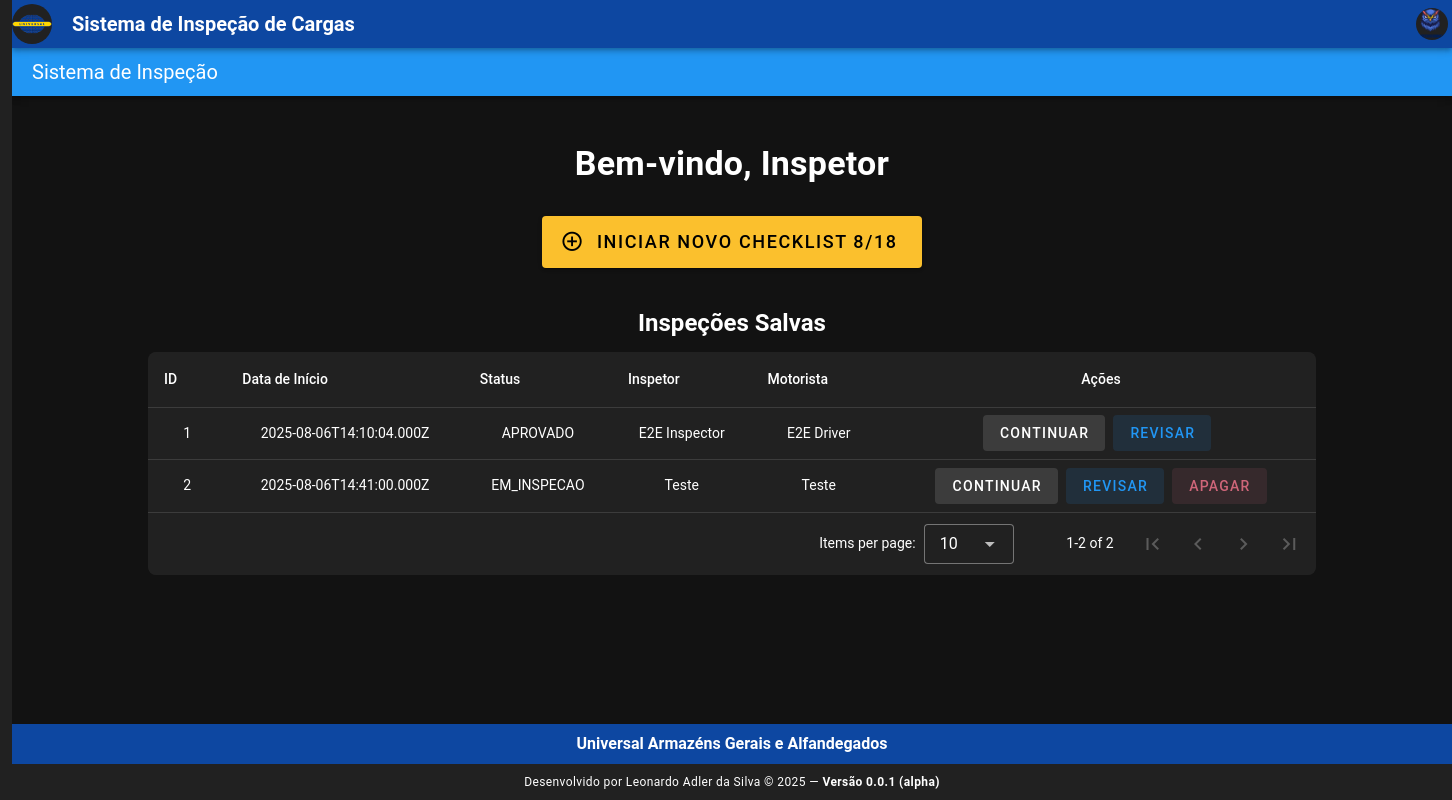
Test case: Tela 1: Página Inicial › Visualização em Desktop › deve apagar uma inspeção ao clicar em "Apagar" e confirmar
Click the button "Apagar": (1220, 486) [1172,468,1267,504]
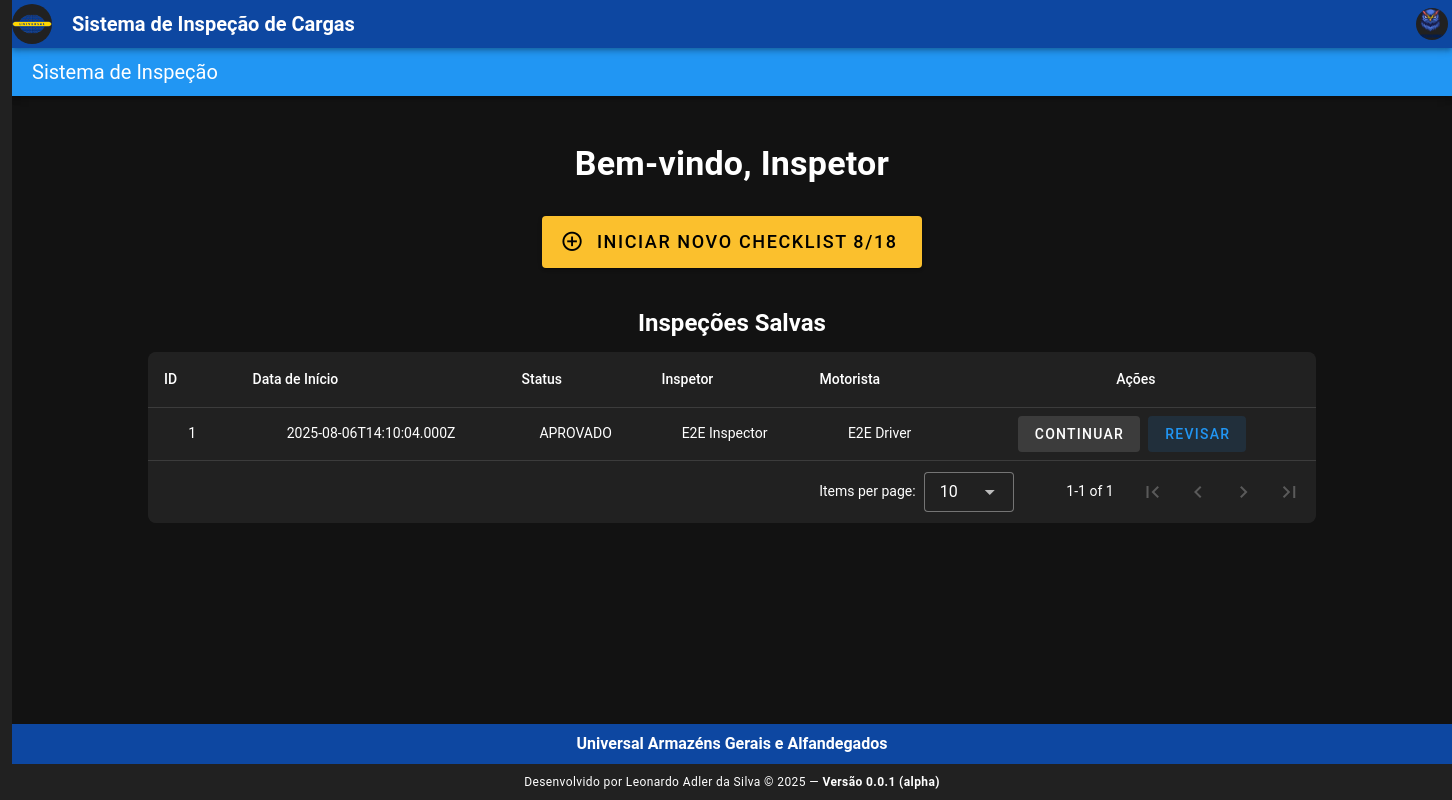
Result: the text "EM_INSPECAO" is gone
